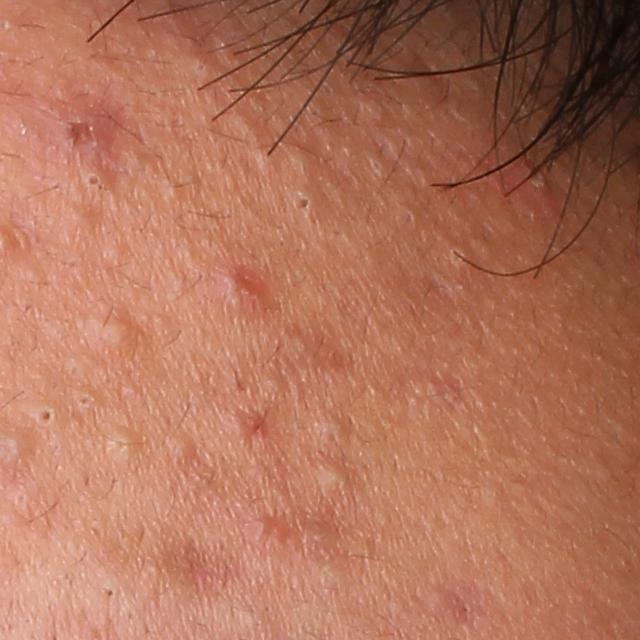comedo: (80, 312, 135, 348), (102, 424, 142, 469), (307, 460, 353, 497), (161, 428, 199, 463), (316, 413, 354, 441), (288, 149, 317, 178), (263, 368, 289, 396), (81, 167, 108, 193), (186, 54, 214, 79), (34, 402, 58, 429), (296, 190, 315, 220), (74, 389, 97, 411), (100, 582, 120, 605)
papule: (244, 503, 349, 563), (42, 93, 121, 161), (209, 255, 278, 320), (507, 156, 570, 215)
